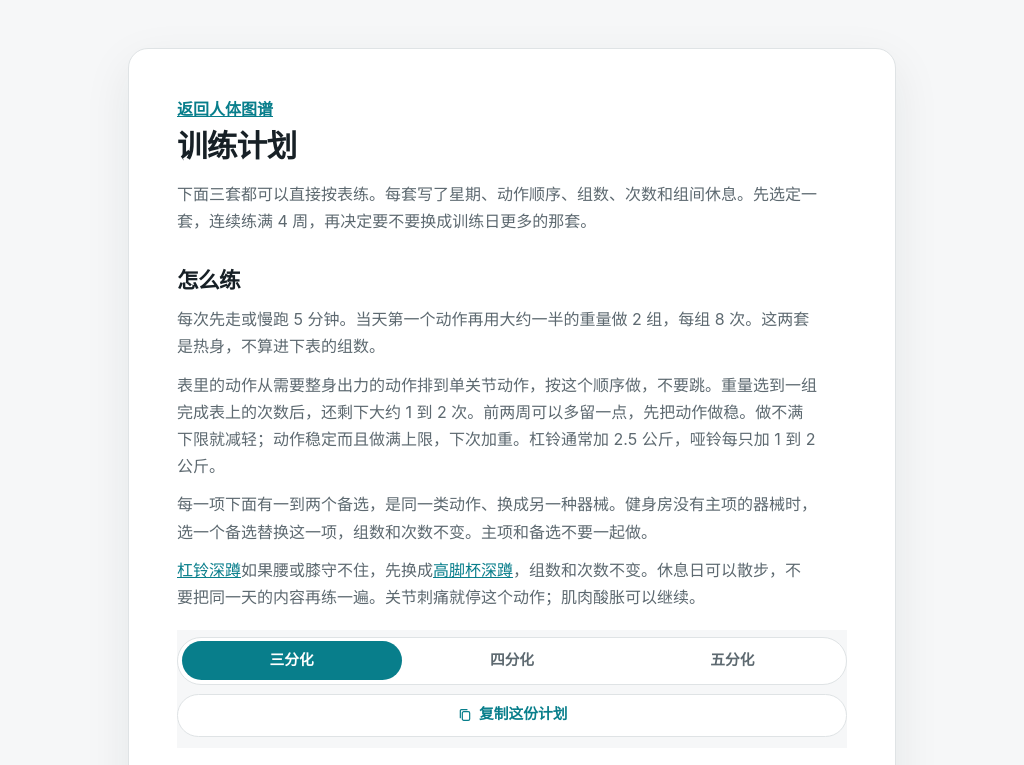
Test: App › returns to the same split and scroll position in the plan
Click the tab "四分化" at (512, 661), box [402,642,622,680]
(page scrolled)
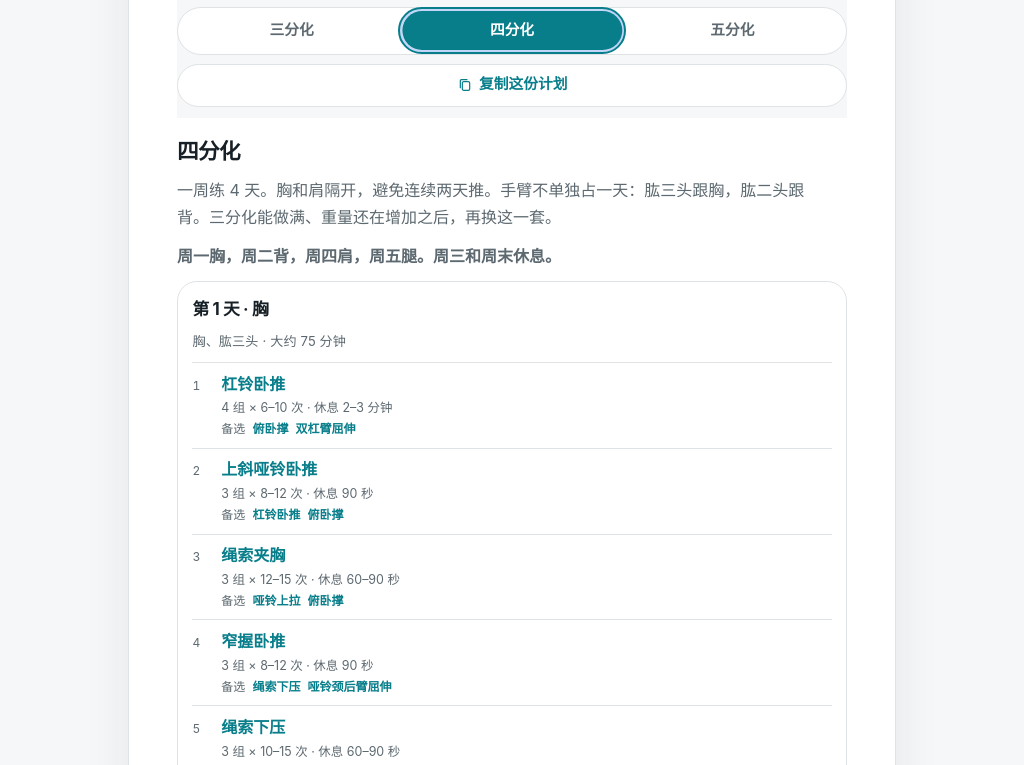
Click the 1st link "杠铃卧推" at (253, 384), box [221,374,285,394]
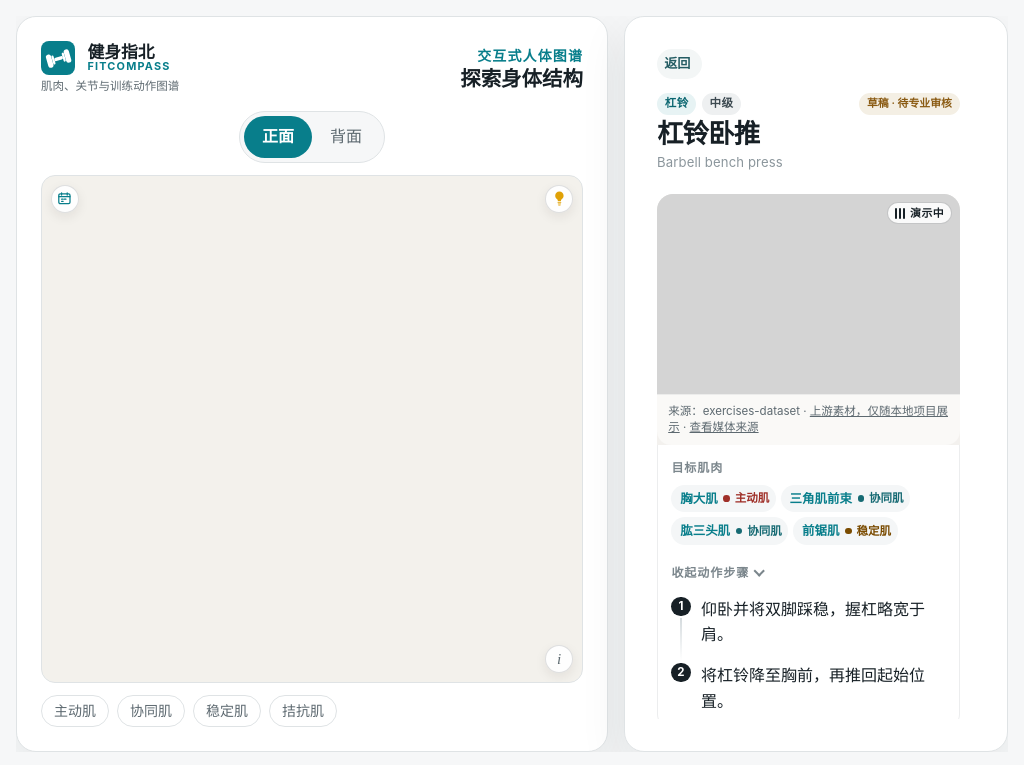
Click the button "返回" at (679, 64), box [657,49,702,79]
(page scrolled)
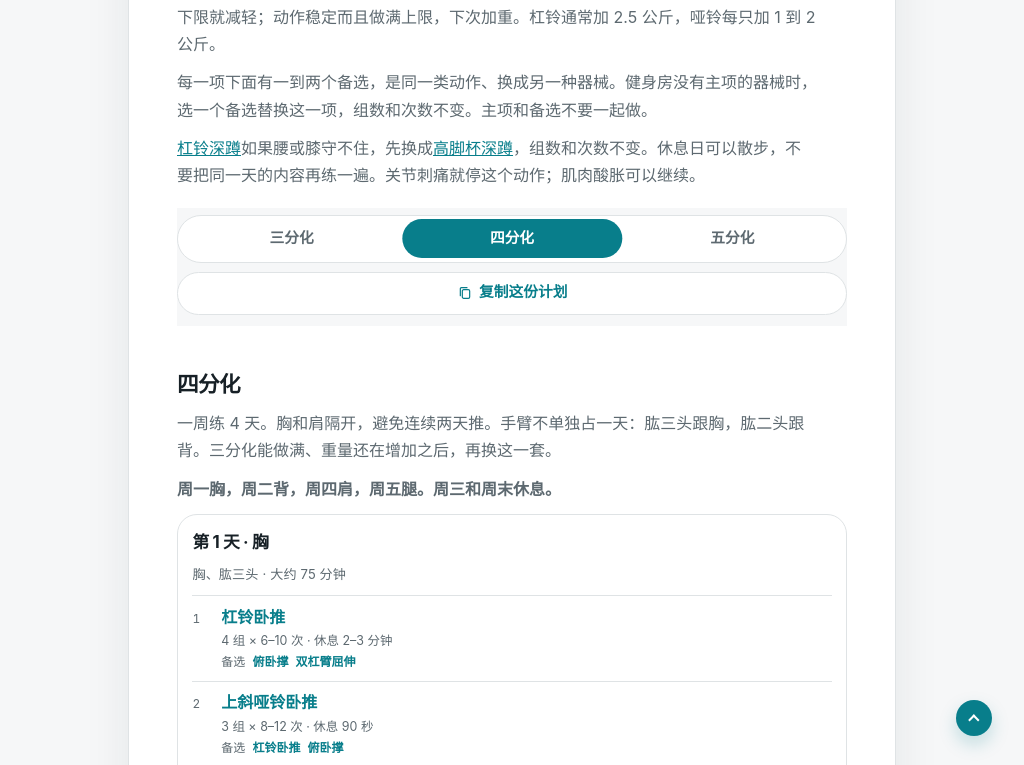
Check: the heading "四分化" is shown, box [177,371,240,397]
